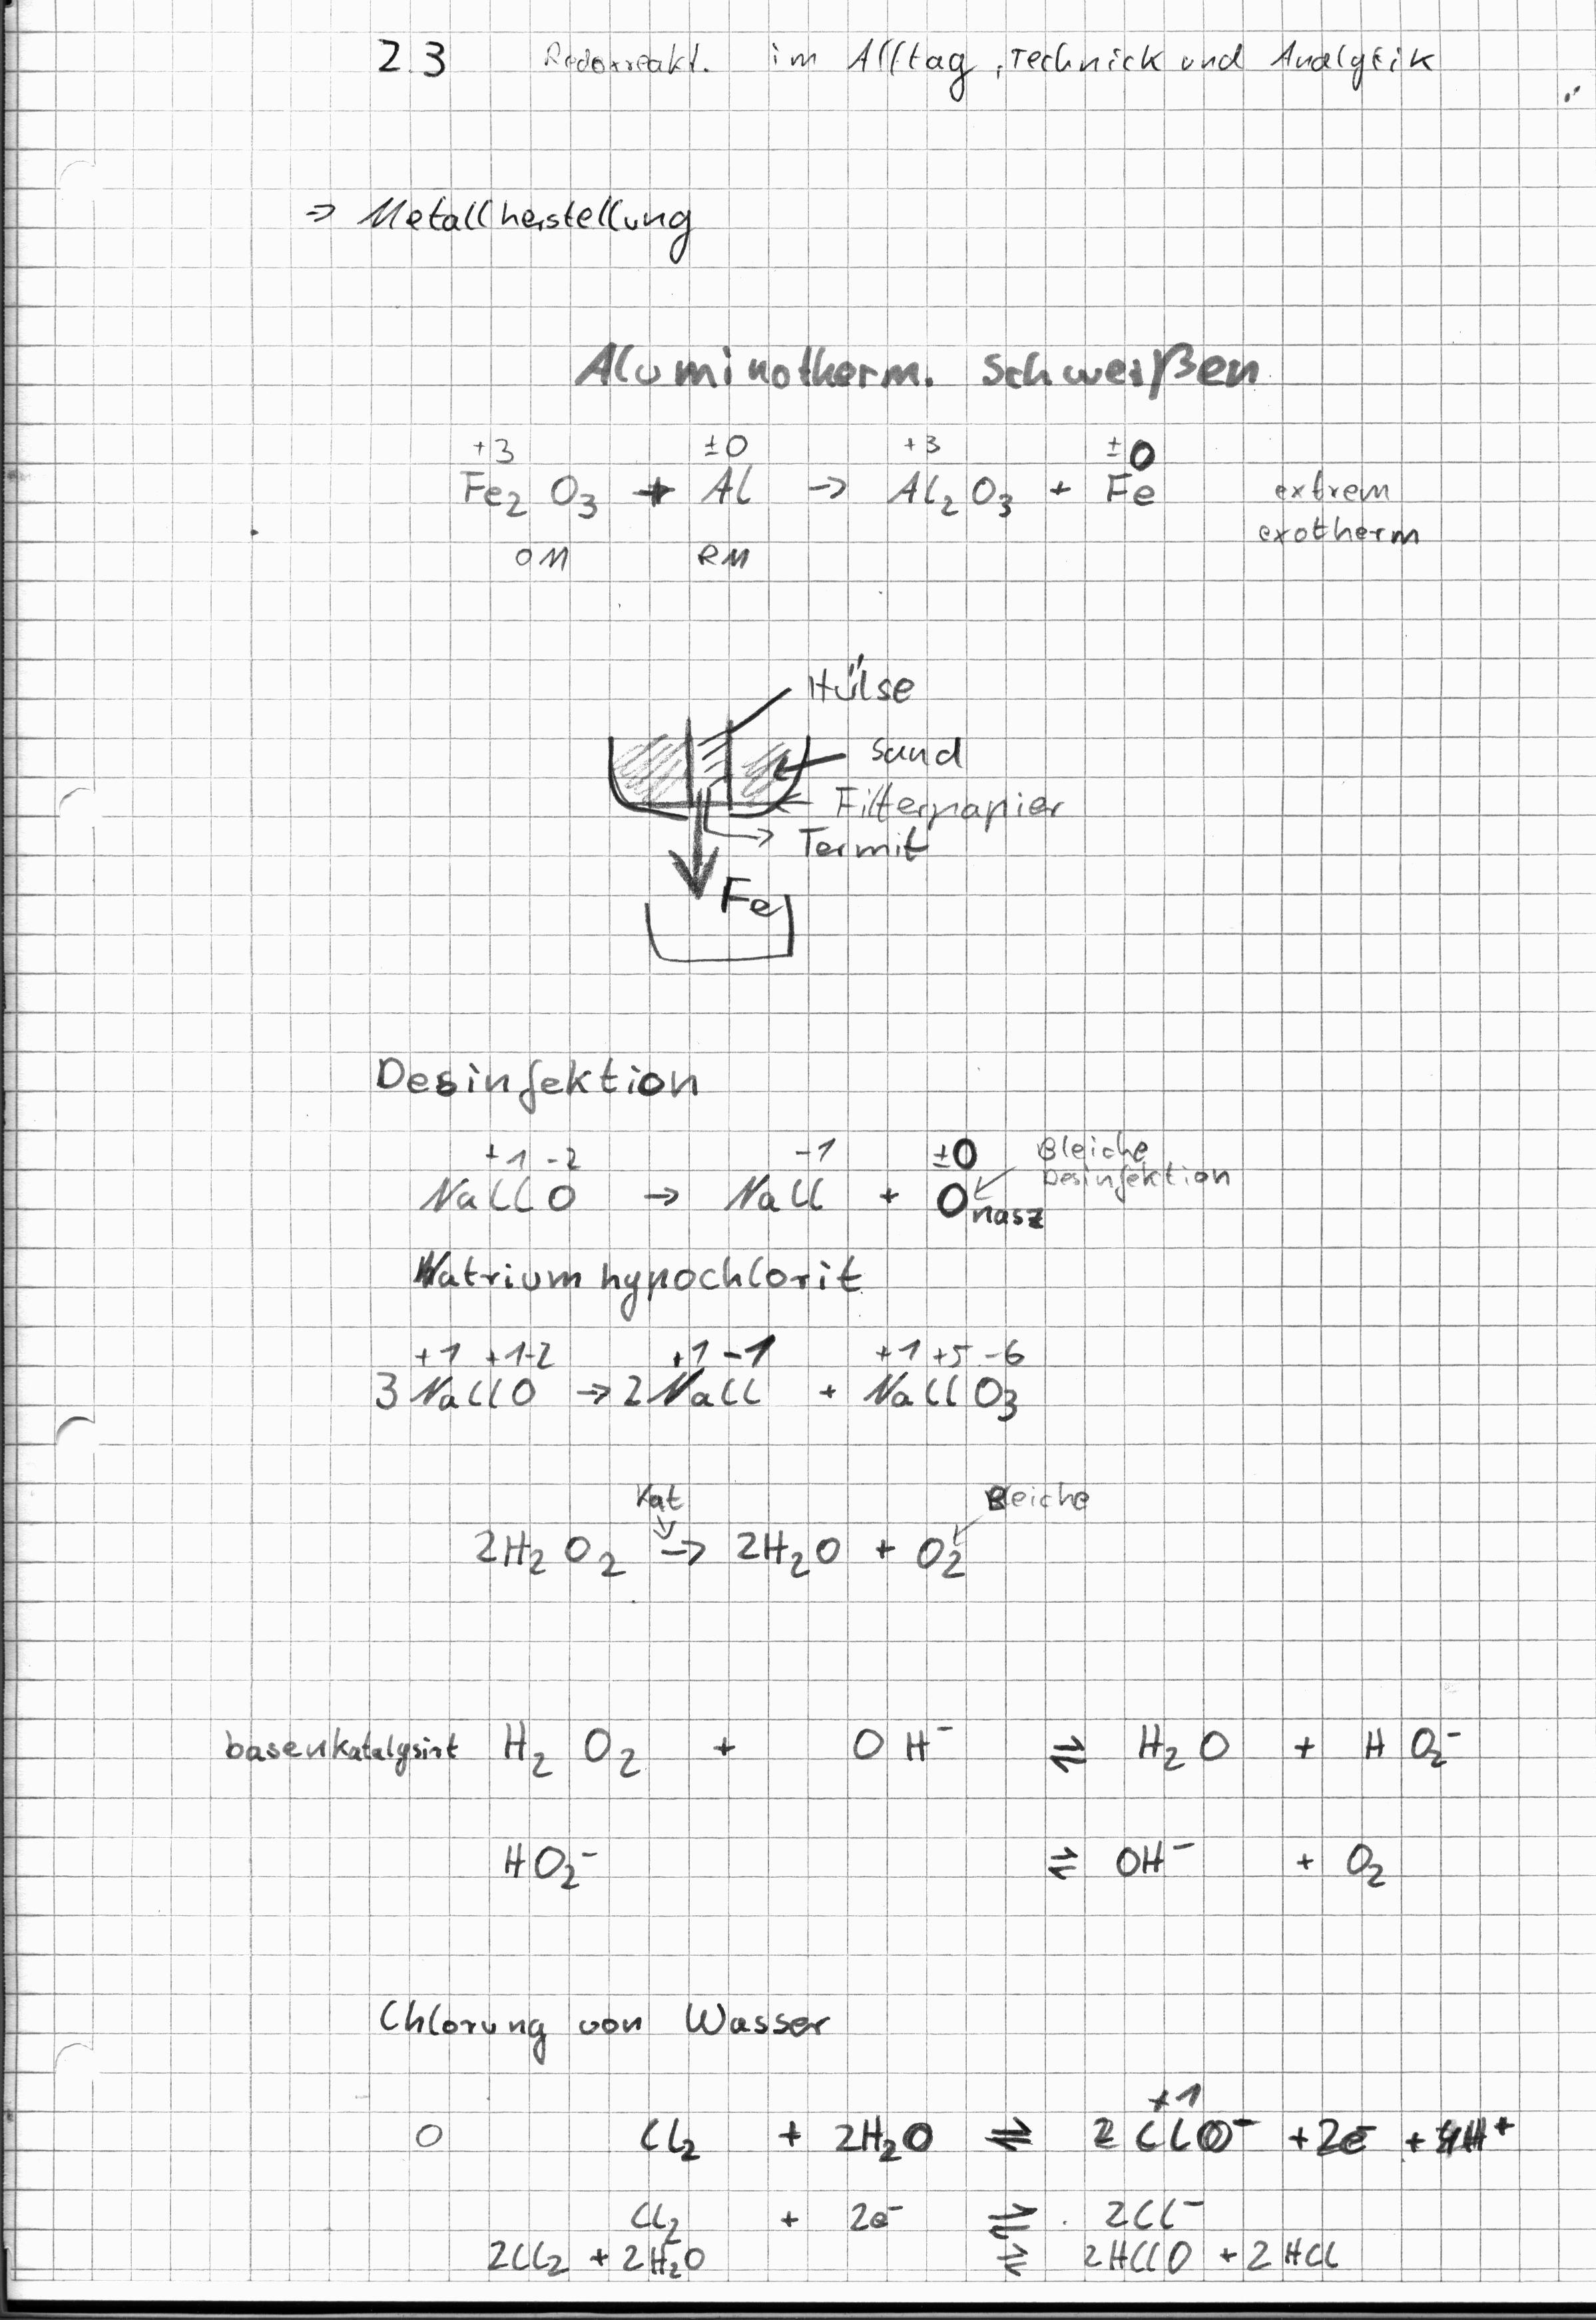word: (456, 424, 1177, 584), (1070, 2054, 1537, 2290), (365, 15, 1447, 108), (343, 1318, 1048, 1439), (415, 1125, 1053, 1241), (449, 1497, 993, 1614), (364, 1970, 851, 2076), (291, 164, 710, 287), (384, 1228, 878, 1329), (1037, 1703, 1481, 1799), (1025, 1813, 1419, 1914), (358, 1028, 726, 1123), (208, 1693, 471, 1801), (626, 2092, 939, 2180), (1236, 451, 1442, 563), (484, 1686, 673, 1803), (951, 2085, 1058, 2291), (819, 1683, 980, 1795), (475, 1813, 625, 1910)
